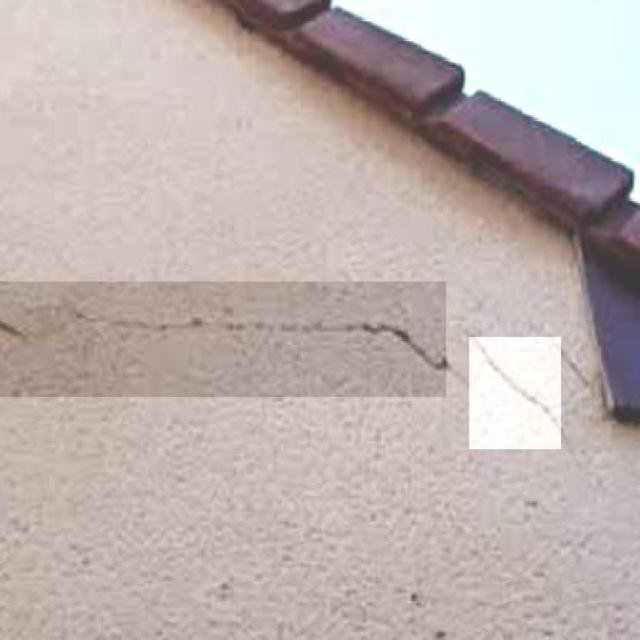Crack: (16, 282, 444, 402), (466, 336, 564, 457)
